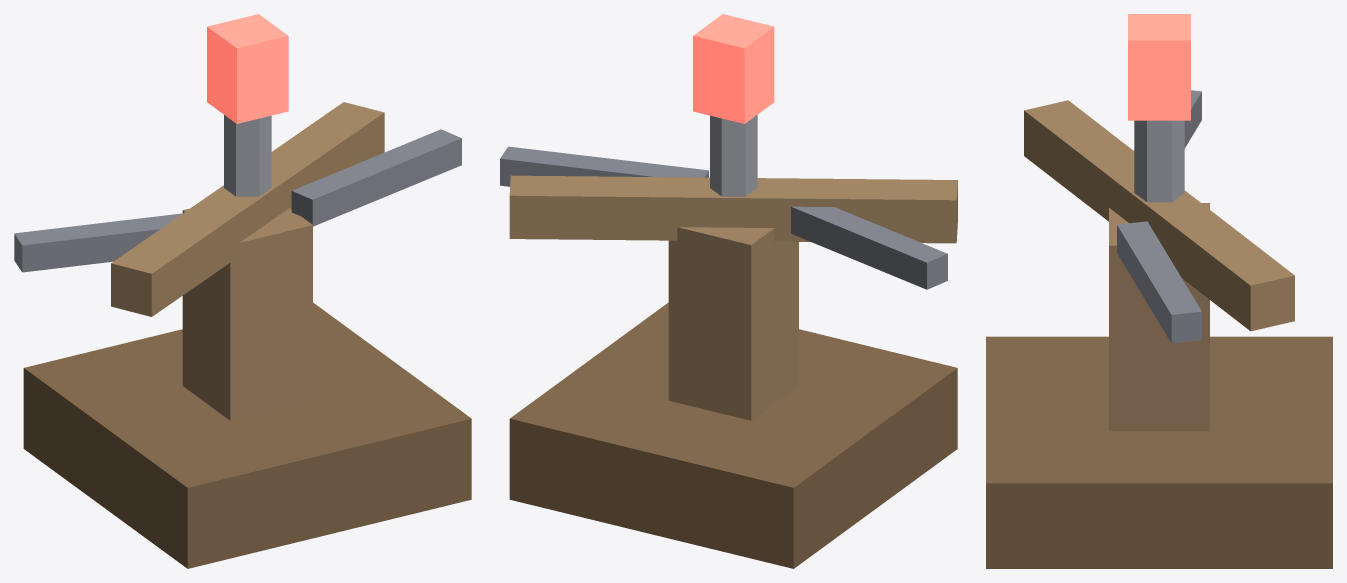
File: ballista.glb
3 views of the same model, side by side, from view 1: azimuth 30°, elevation 25°; view 2: azimuth 150°, elevation 25°; view 3: azimuth 270°, elevation 25° (orthographic). The views are drawn at different scales.
Visible parts, largest first — view 1: BallistaBase; view 2: BallistaBase; view 3: BallistaBase.
Boxes of the visible parts, box(x1,y1,x2,y2) form: BallistaBase: box(14, 14, 471, 568); BallistaBase: box(500, 14, 957, 568); BallistaBase: box(986, 14, 1332, 568).
Bounding box in the file's own units: 1.7 × 1.64 × 1.1.
